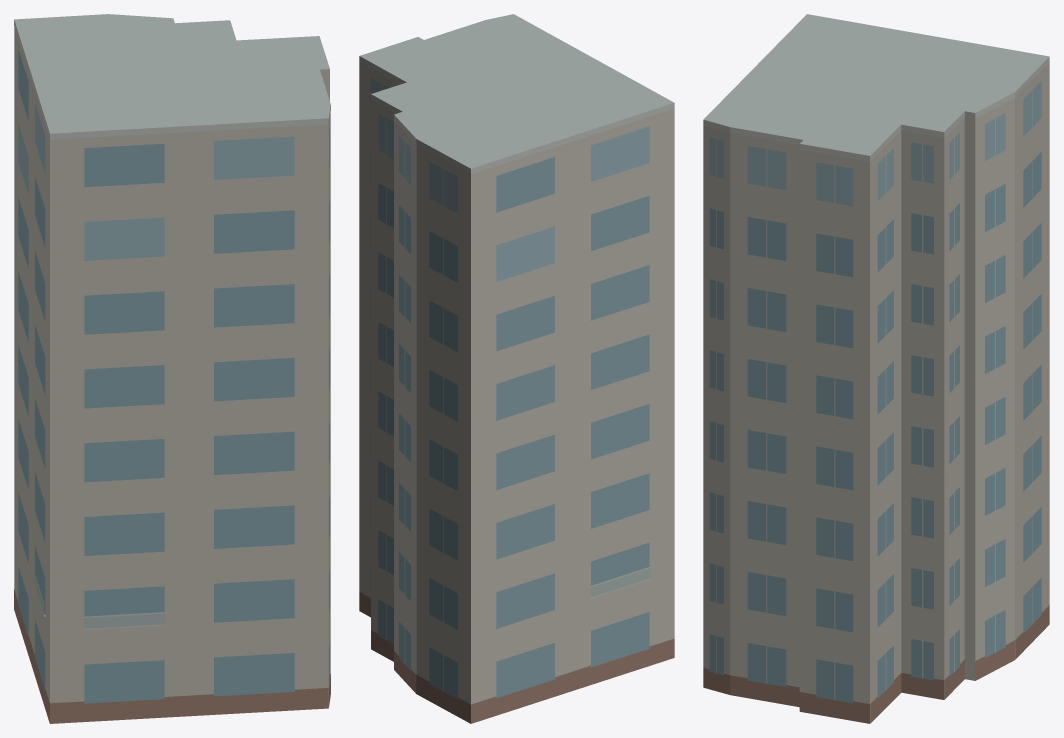
File: survey-upis-32945984.glb
The picture shows the model from 3 angles, left to right: view 1: azimuth 30°, elevation 25°; view 2: azimuth 150°, elevation 25°; view 3: azimuth 270°, elevation 25°; orthographic projection. The views are drawn at different scales.
Visible parts, largest first — view 1: survey-upis-32945984.tmp; view 2: survey-upis-32945984.tmp; view 3: survey-upis-32945984.tmp.
Part boxes in pixels (x1,y1,x2,y2): survey-upis-32945984.tmp: [14, 14, 330, 723]; survey-upis-32945984.tmp: [359, 14, 674, 723]; survey-upis-32945984.tmp: [703, 14, 1049, 723].
Bounding box in the file's own units: 12.74 × 23.75 × 13.13.
